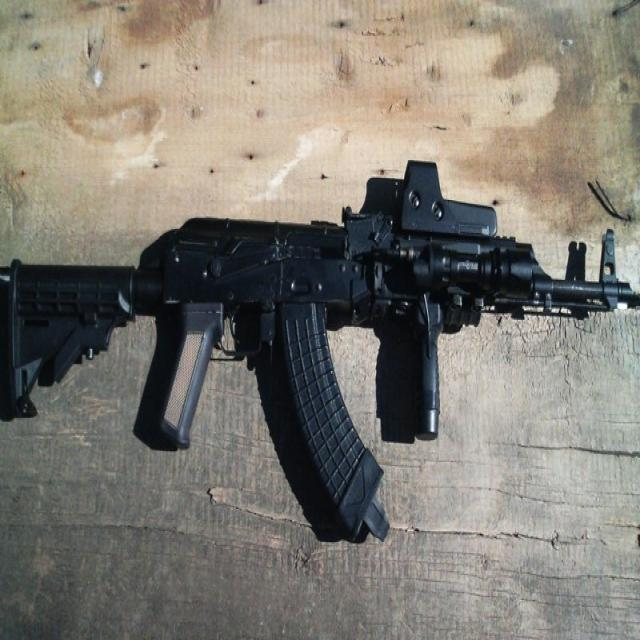firearm: (0, 160, 637, 540)
